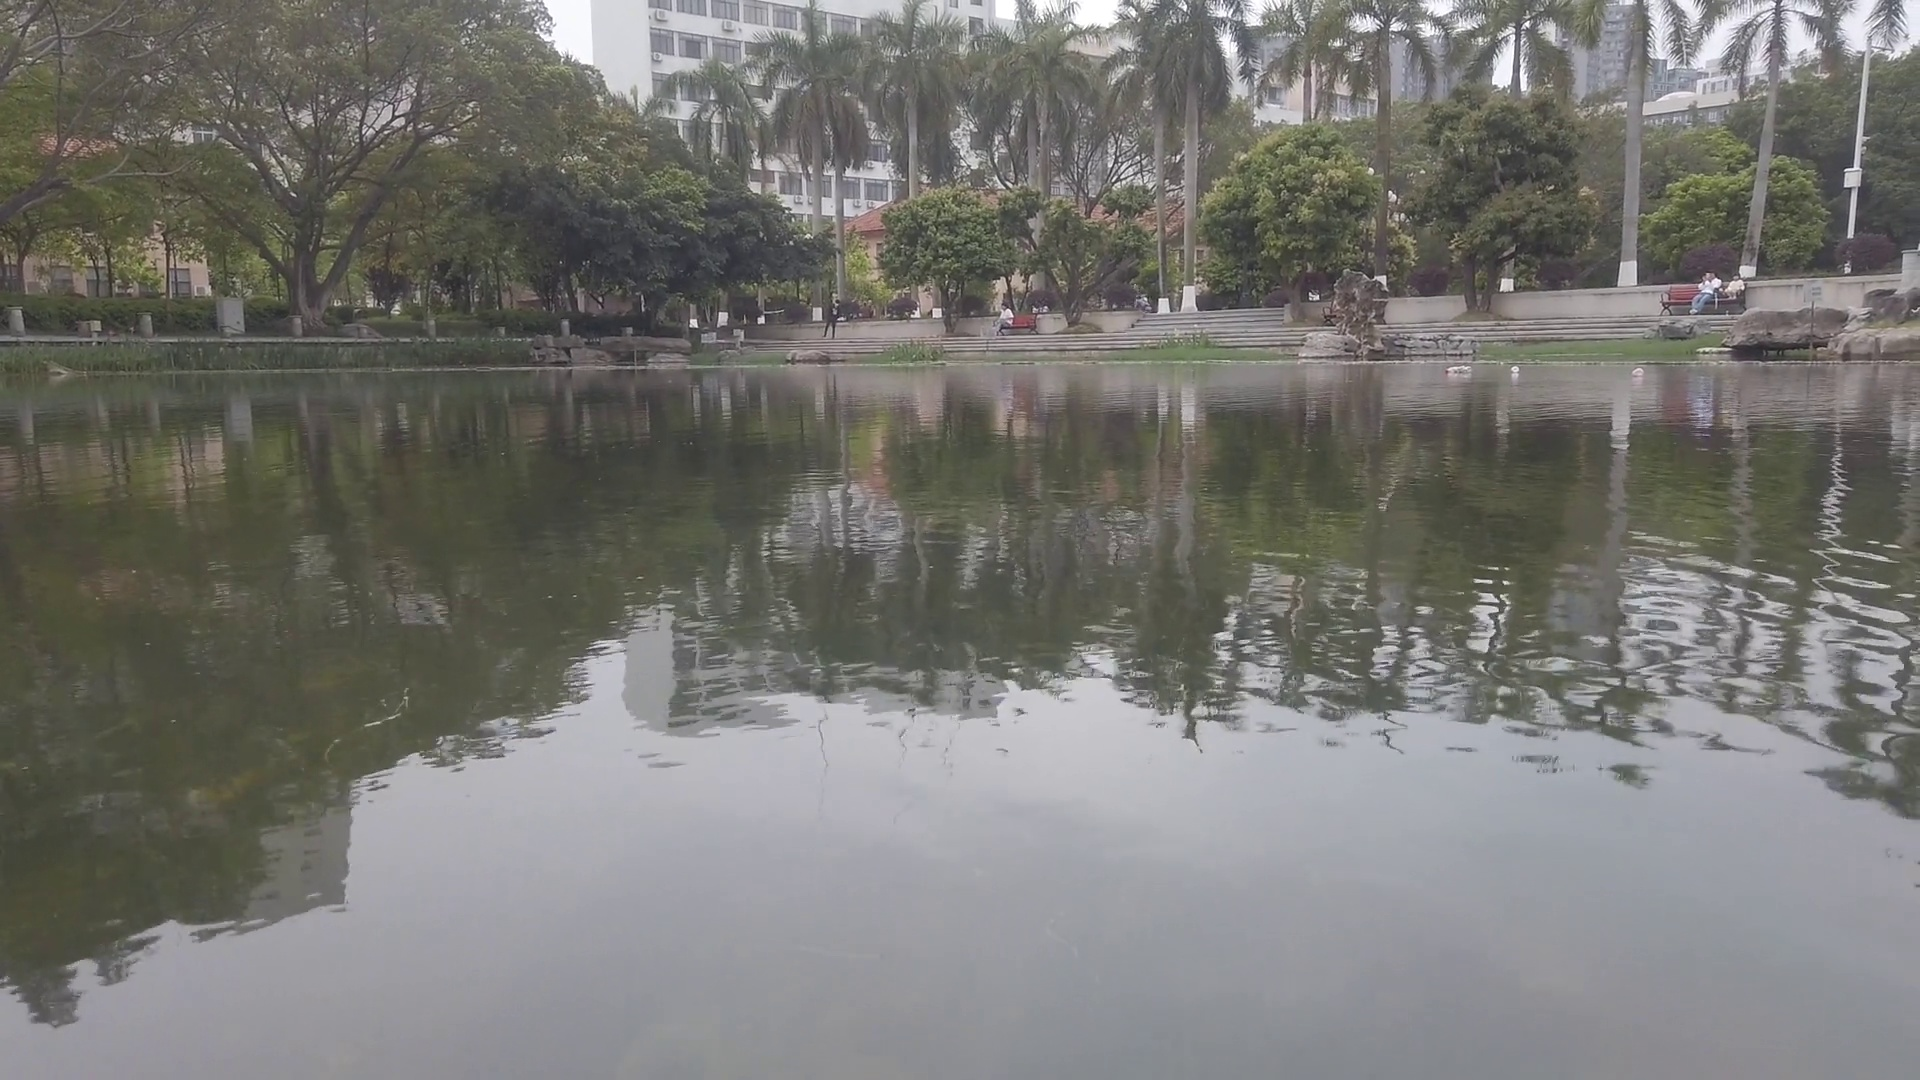bottle: (1444, 365, 1473, 376), (1631, 367, 1644, 377), (1510, 367, 1524, 375)
